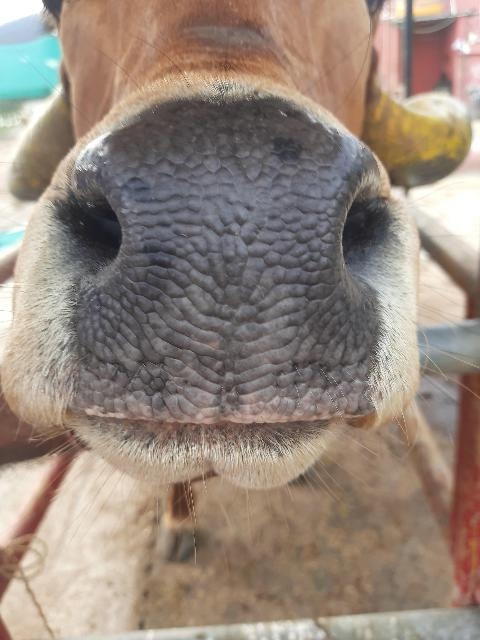Muzzle: (93, 133, 369, 421)
